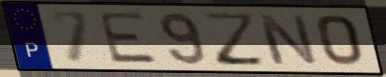0: (314, 14, 368, 68)
7: (49, 10, 92, 65)
9: (156, 11, 209, 67)
E: (96, 11, 161, 65)
N: (255, 13, 322, 67)
Z: (200, 11, 268, 68)
